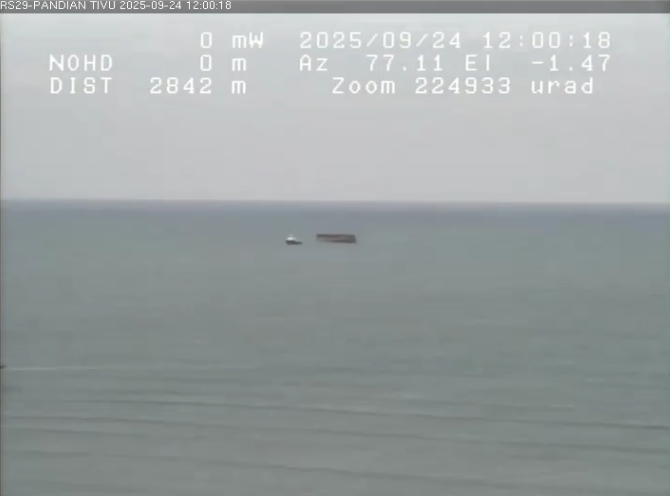BARGE: (308, 233, 371, 251)
OFFSHORE_SUPPLY_VESSEL: (273, 228, 305, 252)
TOWING: (243, 204, 428, 283)
